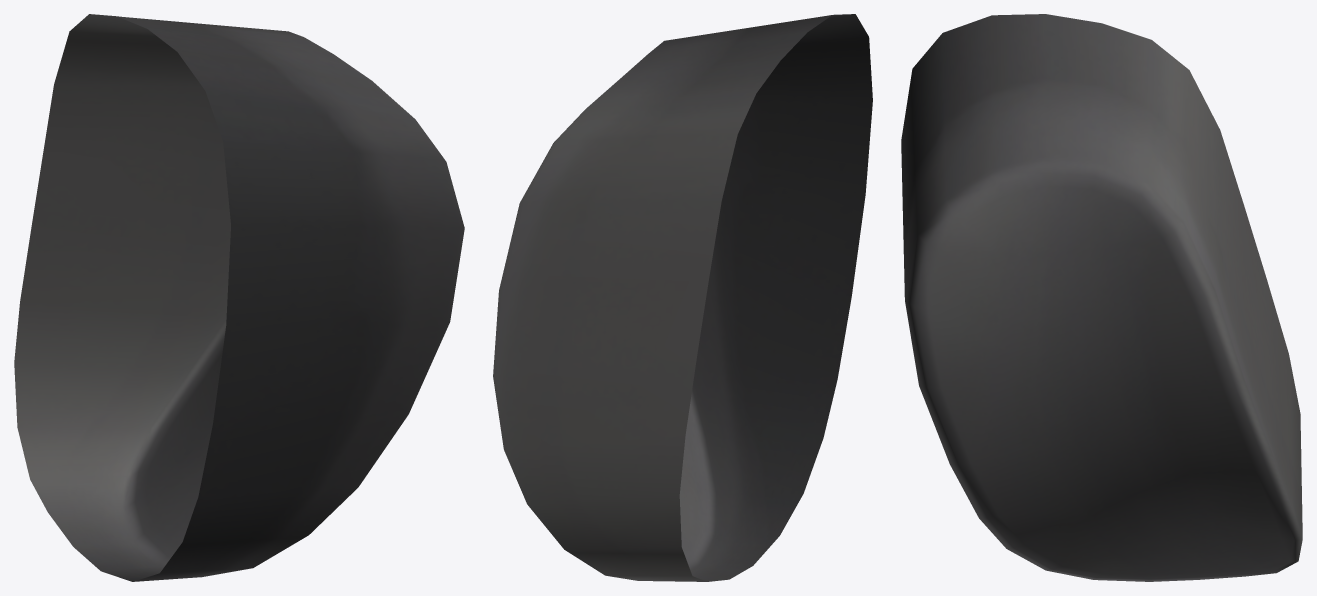
The model's file is L_grip.obj.
3 views of the same model, side by side, from view 1: azimuth 30°, elevation 25°; view 2: azimuth 150°, elevation 25°; view 3: azimuth 270°, elevation 25° (orthographic). The views are drawn at different scales.
Visible parts, largest first — view 1: L_grip; view 2: L_grip; view 3: L_grip.
Boxes of the visible parts, <box> form: L_grip: <box>14,14,464,581</box>; L_grip: <box>493,14,872,581</box>; L_grip: <box>901,14,1302,581</box>.
Bounding box in the file's own units: 0.0115 × 0.0259 × 0.0175.
Materials: 1 (1 with a texture image).
